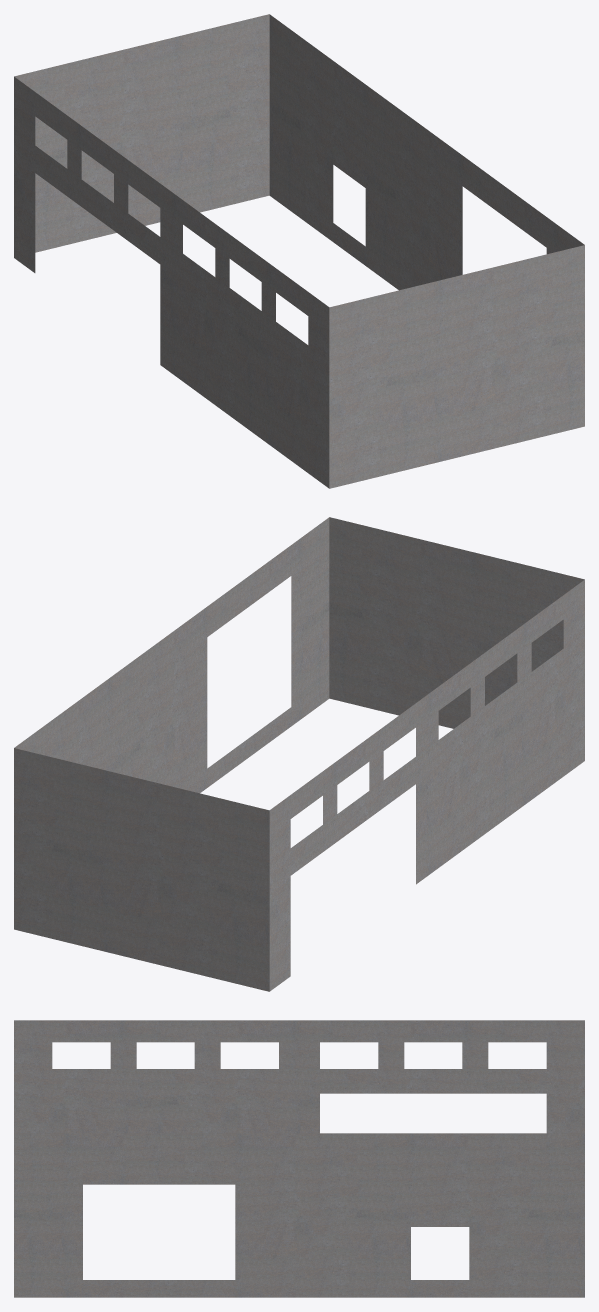
File: 20251116_Building03_new top.fbx
The picture shows the model from 3 angles, top to bottom: view 1: azimuth 30°, elevation 25°; view 2: azimuth 150°, elevation 25°; view 3: azimuth 270°, elevation 25°; orthographic projection. The views are drawn at different scales.
Parts seen in each view (by area): view 1: ext wall concrete; view 2: ext wall concrete; view 3: ext wall concrete.
Part boxes in pixels (x1=…): ext wall concrete: x1=14, y1=14, x2=584, y2=488; ext wall concrete: x1=14, y1=517, x2=584, y2=991; ext wall concrete: x1=14, y1=1020, x2=584, y2=1297.
Size of the model in its own units: 165 by 353 by 112.
Materials: 1 (1 with a texture image).
